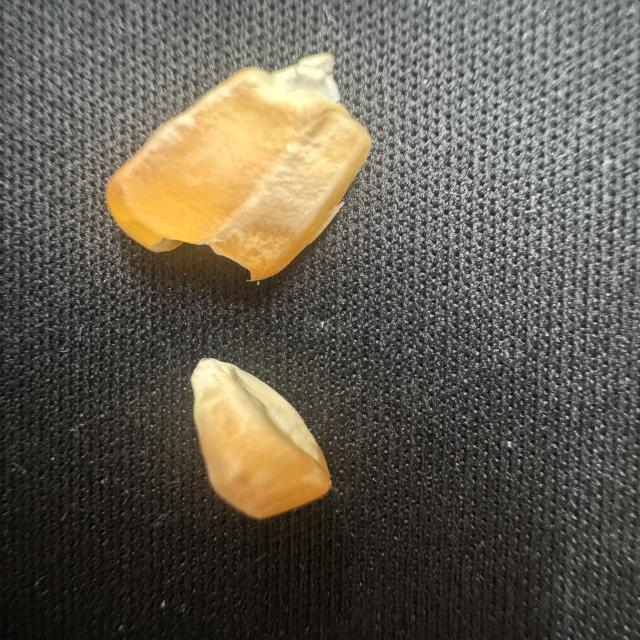Bad-Seed: (98, 42, 378, 286), (170, 345, 340, 527)
